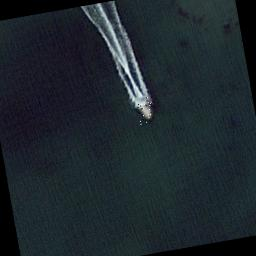boat: (134, 95, 156, 125)
